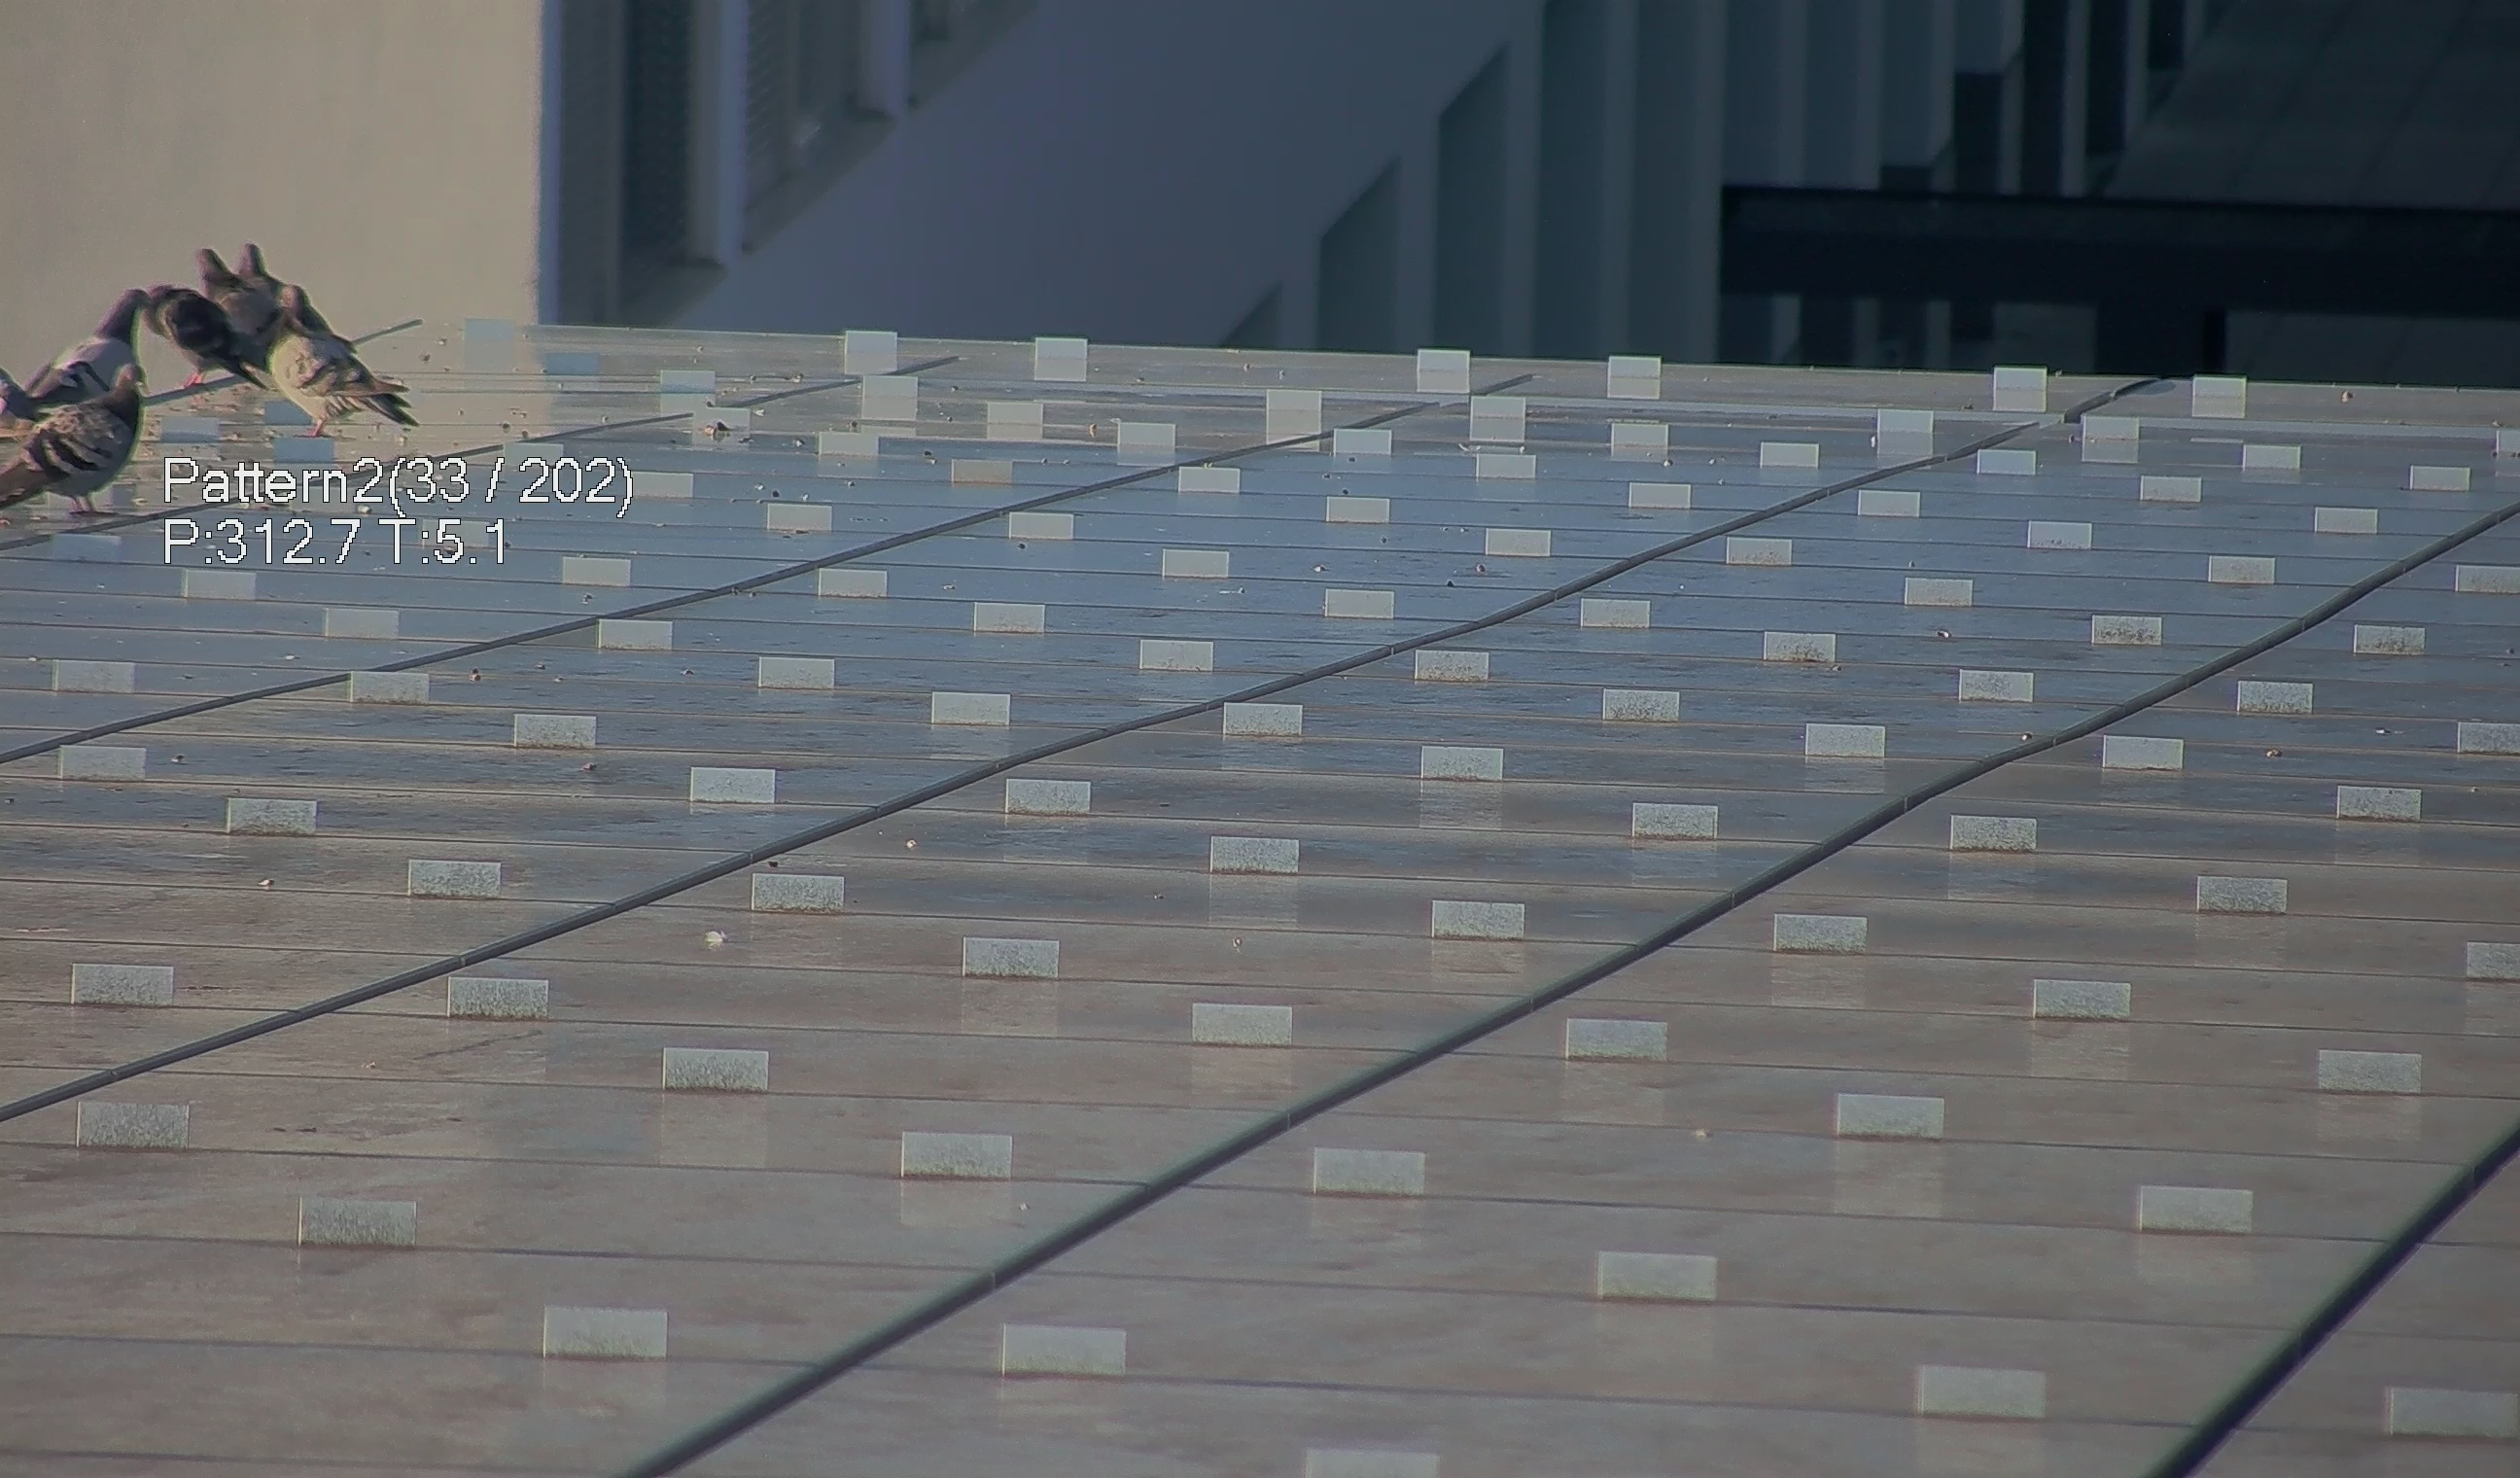Pigeon: (2, 357, 158, 523), (274, 282, 415, 454), (25, 282, 171, 419), (142, 276, 260, 401), (192, 218, 288, 329)
